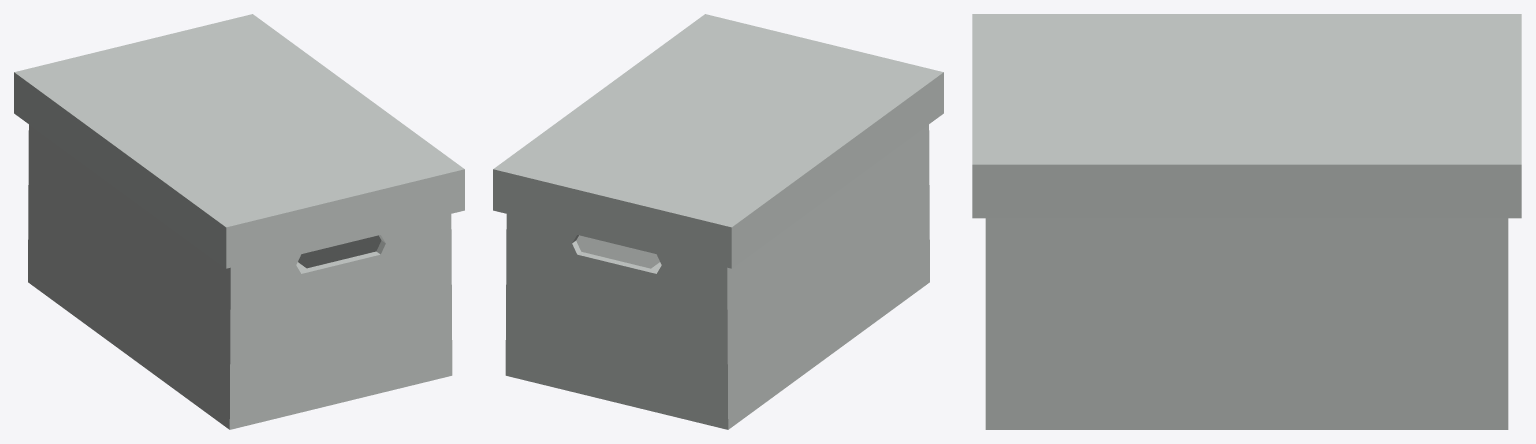
Rendered from Prop_Box_01.glb.
3 views of the same model, side by side, from view 1: azimuth 30°, elevation 25°; view 2: azimuth 150°, elevation 25°; view 3: azimuth 270°, elevation 25° (orthographic). The views are drawn at different scales.
Visible parts, largest first — view 1: SM_Prop_Box_01, SM_Prop_Box_Lid_01; view 2: SM_Prop_Box_01, SM_Prop_Box_Lid_01; view 3: SM_Prop_Box_Lid_01, SM_Prop_Box_01.
Boxes of the visible parts, bbox=[...] form: SM_Prop_Box_01: bbox=[28, 124, 452, 429]; SM_Prop_Box_Lid_01: bbox=[14, 14, 464, 268]; SM_Prop_Box_01: bbox=[505, 124, 929, 429]; SM_Prop_Box_Lid_01: bbox=[493, 14, 943, 268]; SM_Prop_Box_Lid_01: bbox=[972, 14, 1521, 218]; SM_Prop_Box_01: bbox=[985, 218, 1508, 429].
Bounding box in the file's own units: 0.4353 × 0.3632 × 0.67.
1 material, 1 textured.
